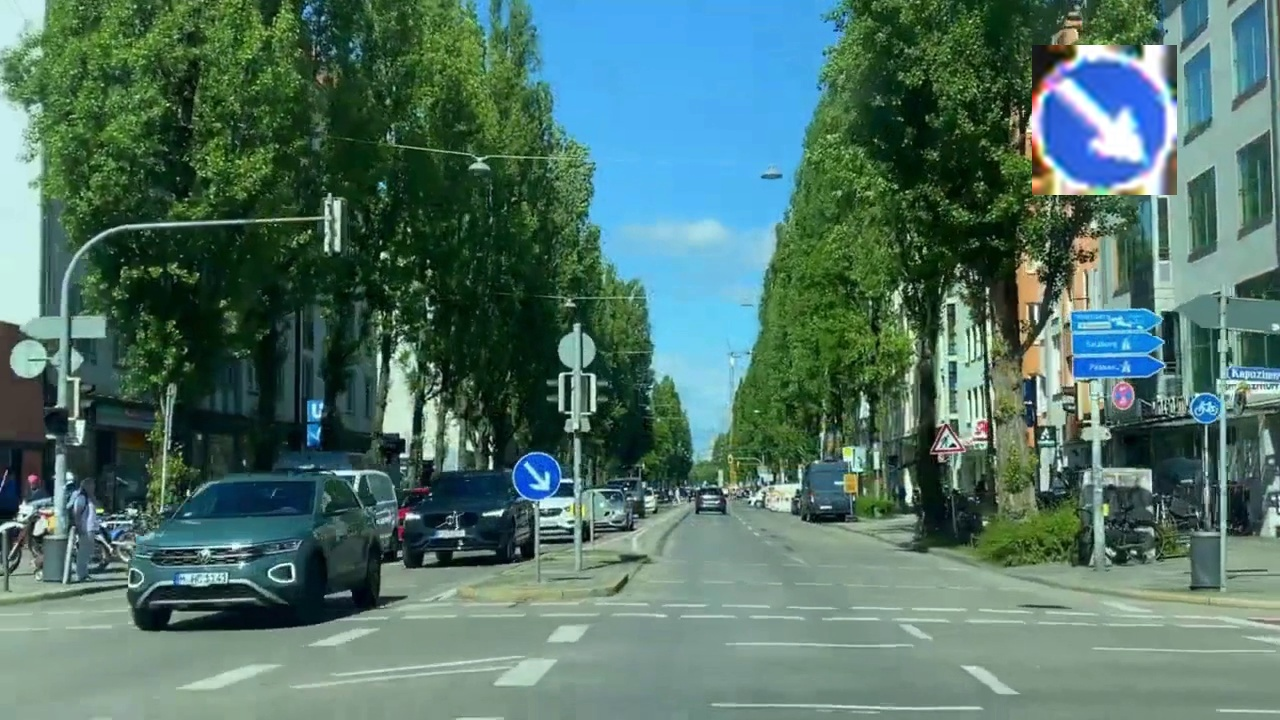Keep right: (1032, 45, 1177, 195)
